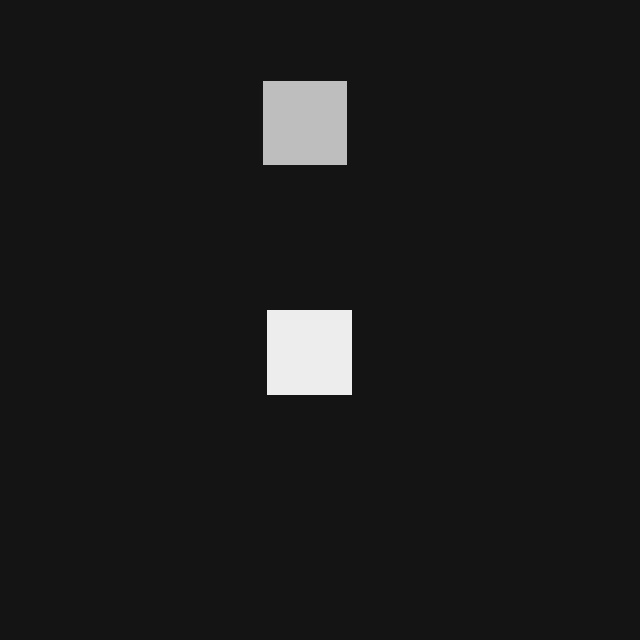square: (267, 310, 351, 394), (263, 81, 346, 164)
